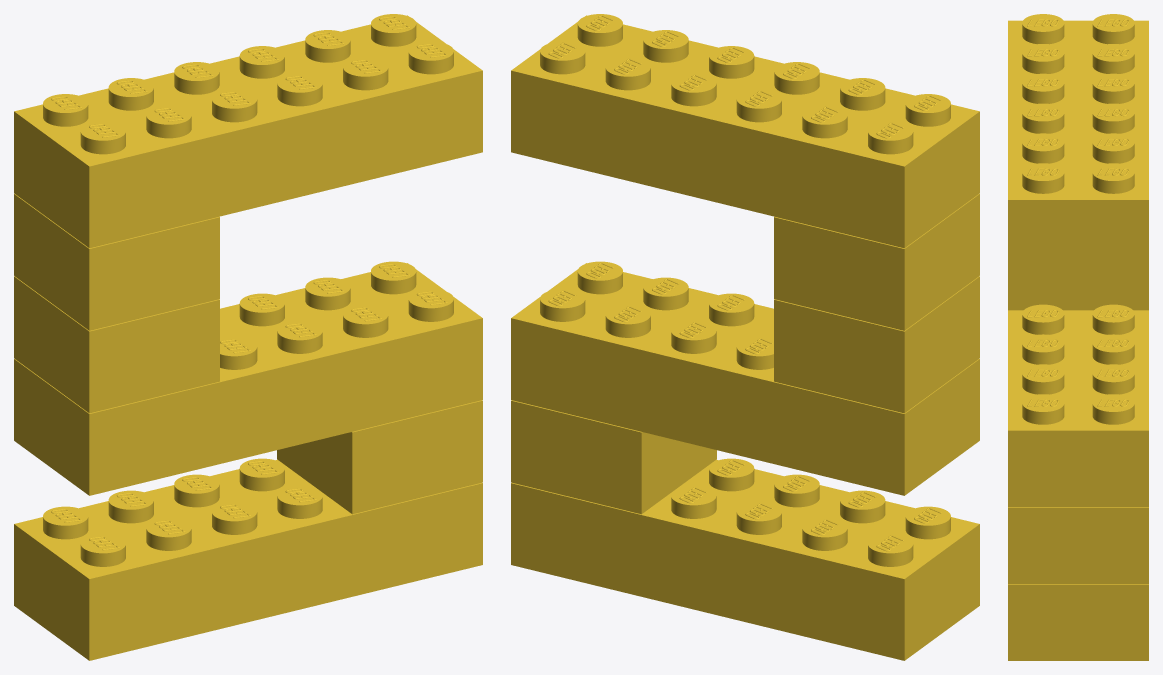
The picture shows the model from 3 angles, left to right: view 1: azimuth 30°, elevation 25°; view 2: azimuth 150°, elevation 25°; view 3: azimuth 270°, elevation 25°; orthographic projection. The views are drawn at different scales.
Parts seen in each view (by area): view 1: Inner-Node-S_dot_io-5, Inner-Node-S_dot_io-4, Inner-Node-S_dot_io-3, Inner-Node-S_dot_io-0, Inner-Node-S_dot_io-2, Inner-Node-S_dot_io-1; view 2: Inner-Node-S_dot_io-5, Inner-Node-S_dot_io-4, Inner-Node-S_dot_io-3, Inner-Node-S_dot_io-0, Inner-Node-S_dot_io-2, Inner-Node-S_dot_io-1; view 3: Inner-Node-S_dot_io-5, Inner-Node-S_dot_io-3, Inner-Node-S_dot_io-1, Inner-Node-S_dot_io-4, Inner-Node-S_dot_io-0.
Part boxes in pixels (bbox=[...]): Inner-Node-S_dot_io-5: bbox=[14, 14, 482, 248]; Inner-Node-S_dot_io-4: bbox=[14, 458, 482, 660]; Inner-Node-S_dot_io-3: bbox=[14, 261, 482, 495]; Inner-Node-S_dot_io-0: bbox=[14, 276, 219, 413]; Inner-Node-S_dot_io-2: bbox=[14, 193, 219, 330]; Inner-Node-S_dot_io-1: bbox=[277, 400, 482, 514]; Inner-Node-S_dot_io-5: bbox=[511, 14, 979, 248]; Inner-Node-S_dot_io-4: bbox=[511, 458, 979, 660]; Inner-Node-S_dot_io-3: bbox=[511, 261, 979, 495]; Inner-Node-S_dot_io-0: bbox=[774, 276, 979, 413]; Inner-Node-S_dot_io-2: bbox=[774, 193, 979, 330]; Inner-Node-S_dot_io-1: bbox=[511, 400, 716, 514]; Inner-Node-S_dot_io-5: bbox=[1008, 14, 1148, 275]; Inner-Node-S_dot_io-3: bbox=[1008, 304, 1148, 506]; Inner-Node-S_dot_io-1: bbox=[1008, 507, 1148, 583]; Inner-Node-S_dot_io-4: bbox=[1008, 584, 1148, 660]; Inner-Node-S_dot_io-0: bbox=[1008, 276, 1148, 310].
Size of the model in its own units: 120 by 148 by 39.75.
